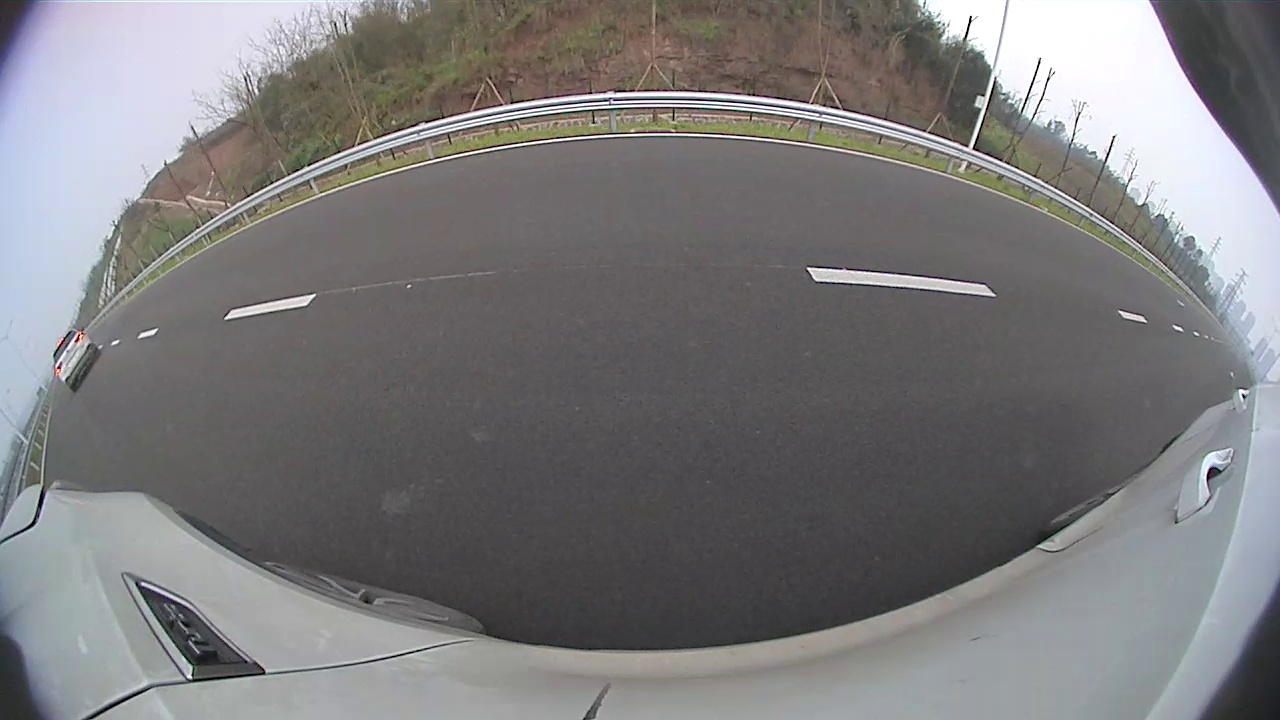car: (715, 151, 784, 196)
front: (715, 176, 723, 191)
rear: (727, 178, 738, 194)
